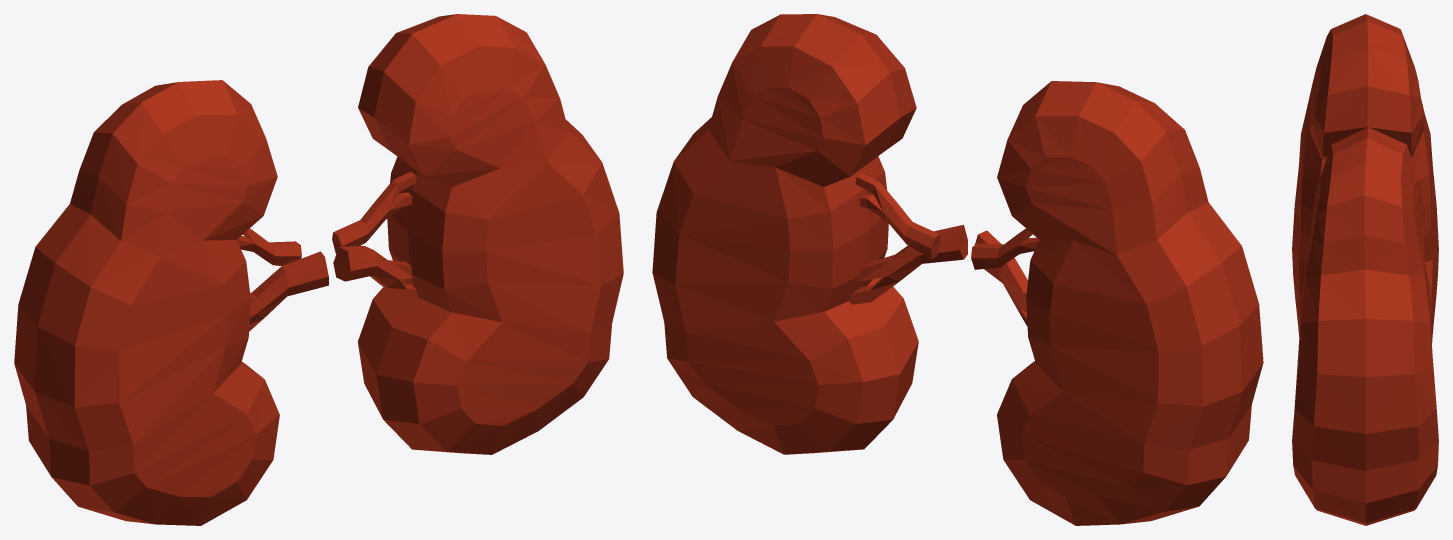
Rendered from Kidneys.gltf.
The picture shows the model from 3 angles, left to right: view 1: azimuth 30°, elevation 25°; view 2: azimuth 150°, elevation 25°; view 3: azimuth 270°, elevation 25°; orthographic projection. The views are drawn at different scales.
Parts seen in each view (by area): view 1: Kidney; view 2: Kidney; view 3: Kidney.
Part boxes in pixels (x1=…): Kidney: x1=14, y1=14, x2=623, y2=525; Kidney: x1=652, y1=14, x2=1263, y2=525; Kidney: x1=1292, y1=14, x2=1438, y2=525.
Bounding box in the file's own units: 70.18 × 51.91 × 18.29.
1 material, 1 textured.
